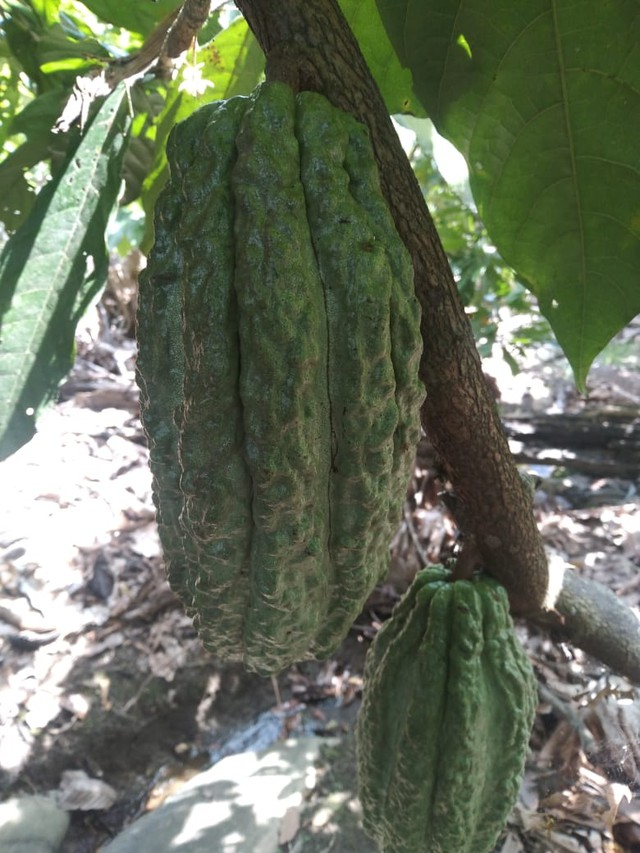Health: (121, 71, 443, 703)
